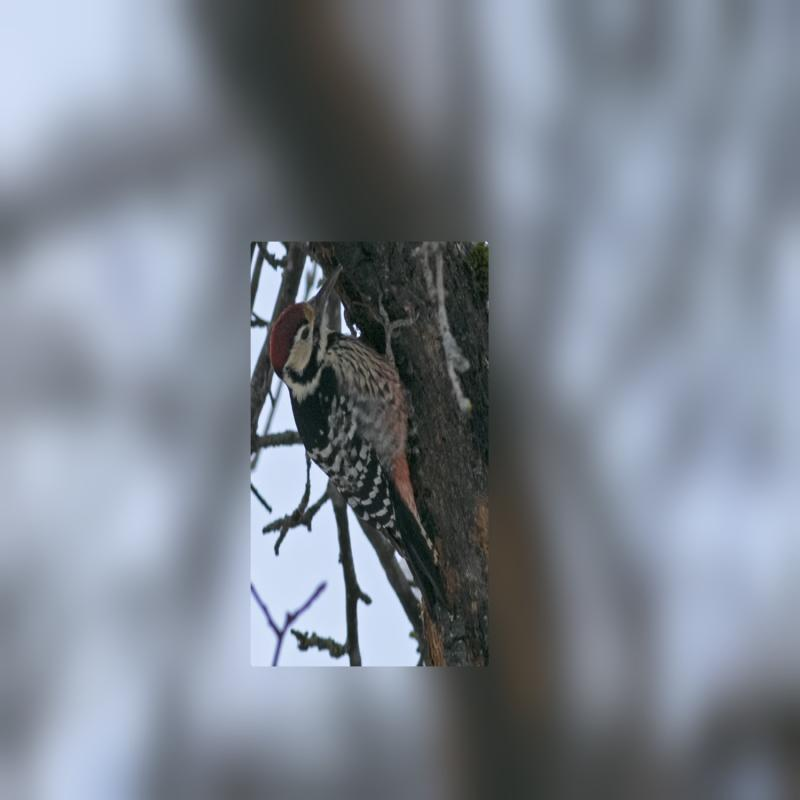white-backed woodpecker: (262, 250, 458, 620)
